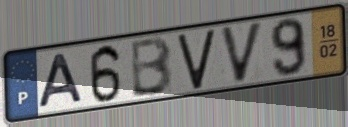6: (87, 42, 124, 104)
9: (268, 15, 309, 79)
A: (37, 51, 86, 111)
B: (130, 34, 176, 100)
V: (218, 19, 266, 87), (175, 26, 217, 92)
